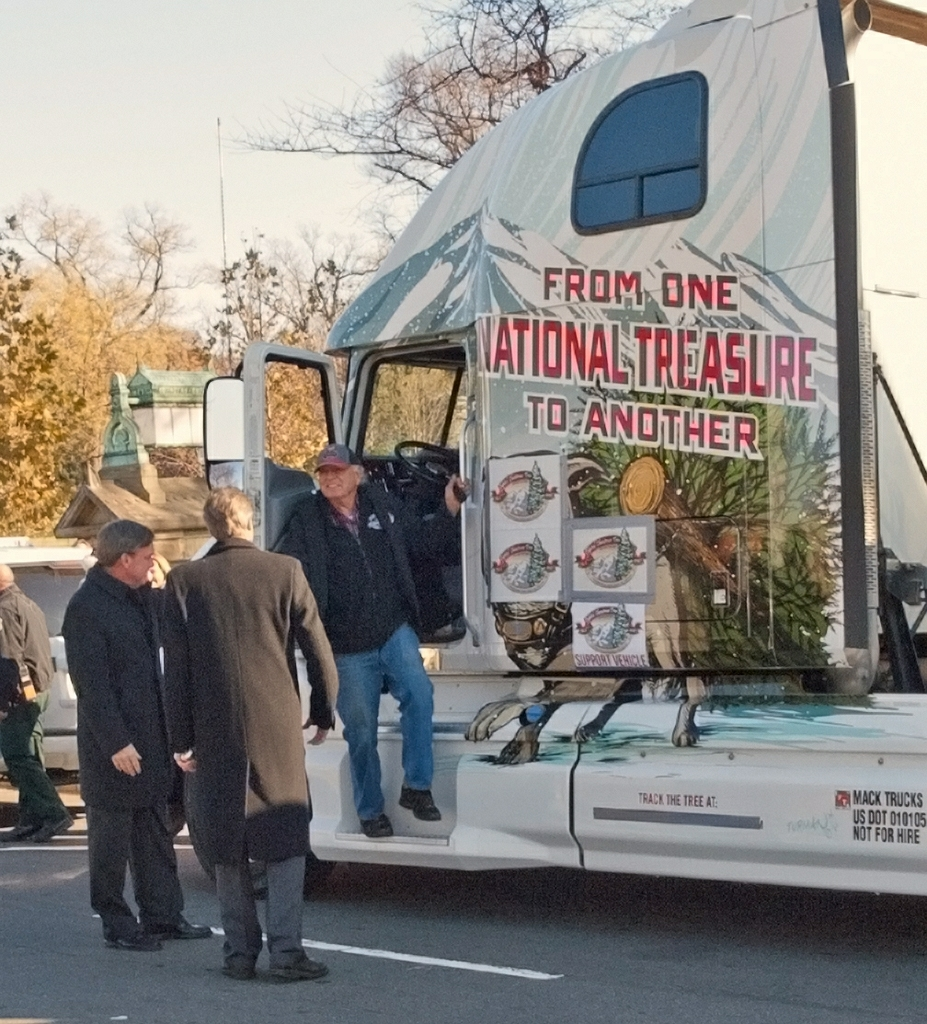truck: (140, 1, 927, 916)
